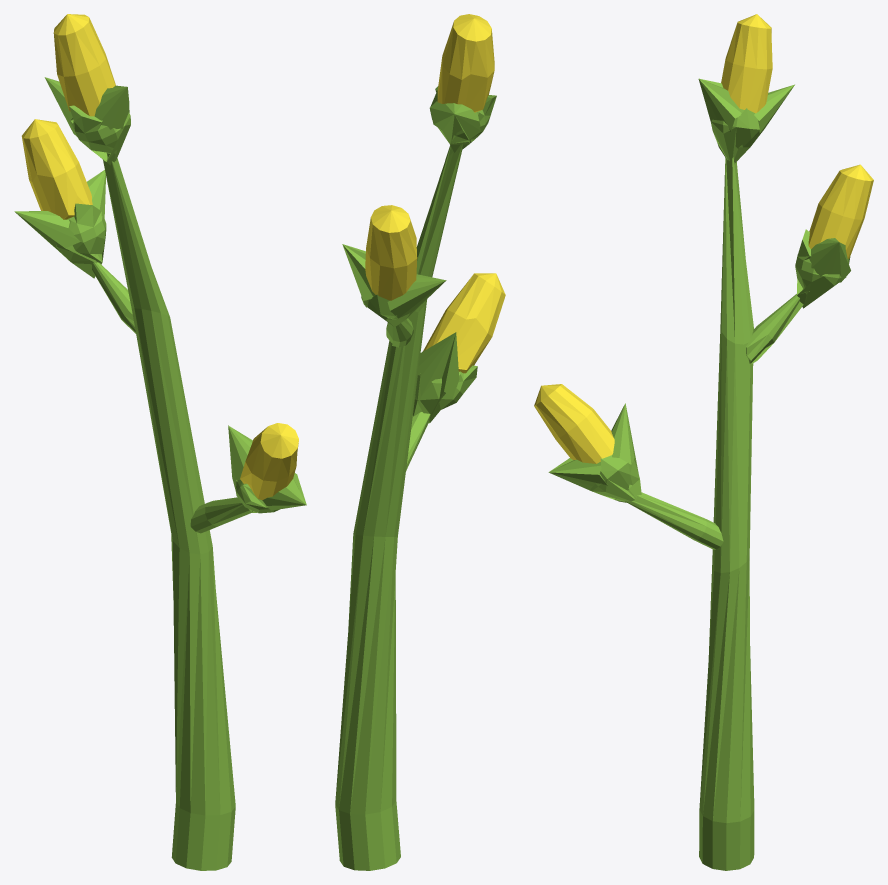
The picture shows the model from 3 angles, left to right: view 1: azimuth 30°, elevation 25°; view 2: azimuth 150°, elevation 25°; view 3: azimuth 270°, elevation 25°; orthographic projection. The views are drawn at different scales.
Visible parts, largest first — view 1: mesh_1295046756, mesh_1658204789, mesh_16376911, mesh_263351198, mesh_327230279, mesh_1940516721, mesh_628223478, mesh_468868551, mesh_1425984674, mesh_1764512250, mesh_1433063276, mesh_1743711761 (+2 smaller); view 2: mesh_1295046756, mesh_16376911, mesh_1658204789, mesh_263351198, mesh_1433063276, mesh_1550938541, mesh_1091411871, mesh_628223478, mesh_183637433, mesh_1940516721, mesh_468868551, mesh_327230279 (+1 smaller); view 3: mesh_1295046756, mesh_263351198, mesh_16376911, mesh_1658204789, mesh_468868551, mesh_1091411871, mesh_1940516721, mesh_1764512250, mesh_327230279, mesh_183637433, mesh_1425984674, mesh_1743711761 (+2 smaller).
Part boxes in pixels (left/top/right/bottom): mesh_1295046756: left=103, top=152, right=235, bottom=870; mesh_1658204789: left=21, top=119, right=92, bottom=219; mesh_16376911: left=53, top=14, right=115, bottom=116; mesh_263351198: left=240, top=423, right=298, bottom=500; mesh_327230279: left=55, top=203, right=106, bottom=278; mesh_1940516721: left=69, top=105, right=130, bottom=165; mesh_628223478: left=14, top=211, right=97, bottom=264; mesh_468868551: left=190, top=497, right=251, bottom=533; mesh_1425984674: left=94, top=85, right=129, bottom=129; mesh_1764512250: left=91, top=262, right=135, bottom=333; mesh_1433063276: left=228, top=425, right=252, bottom=491; mesh_1743711761: left=262, top=473, right=306, bottom=510; mesh_1295046756: left=335, top=144, right=462, bottom=870; mesh_16376911: left=437, top=14, right=494, bottom=112; mesh_1658204789: left=365, top=205, right=417, bottom=300; mesh_263351198: left=423, top=273, right=505, bottom=373; mesh_1433063276: left=417, top=332, right=459, bottom=420; mesh_1550938541: left=430, top=101, right=480, bottom=144; mesh_1091411871: left=413, top=351, right=477, bottom=423; mesh_628223478: left=387, top=274, right=446, bottom=318; mesh_183637433: left=342, top=244, right=375, bottom=307; mesh_1940516721: left=429, top=90, right=496, bottom=152; mesh_468868551: left=406, top=412, right=430, bottom=470; mesh_327230279: left=361, top=294, right=410, bottom=326; mesh_1295046756: left=699, top=157, right=754, bottom=870; mesh_263351198: left=534, top=384, right=614, bottom=463; mesh_16376911: left=721, top=14, right=772, bottom=113; mesh_1658204789: left=808, top=164, right=873, bottom=258; mesh_468868551: left=624, top=492, right=723, bottom=549; mesh_1091411871: left=590, top=455, right=641, bottom=502; mesh_1940516721: left=711, top=108, right=763, bottom=163; mesh_1764512250: left=746, top=289, right=803, bottom=363; mesh_327230279: left=795, top=229, right=850, bottom=308; mesh_183637433: left=809, top=238, right=850, bottom=282; mesh_1425984674: left=698, top=78, right=744, bottom=131; mesh_1743711761: left=548, top=458, right=607, bottom=490.
Size of the model in its own units: 27.93 by 143 by 55.6.
